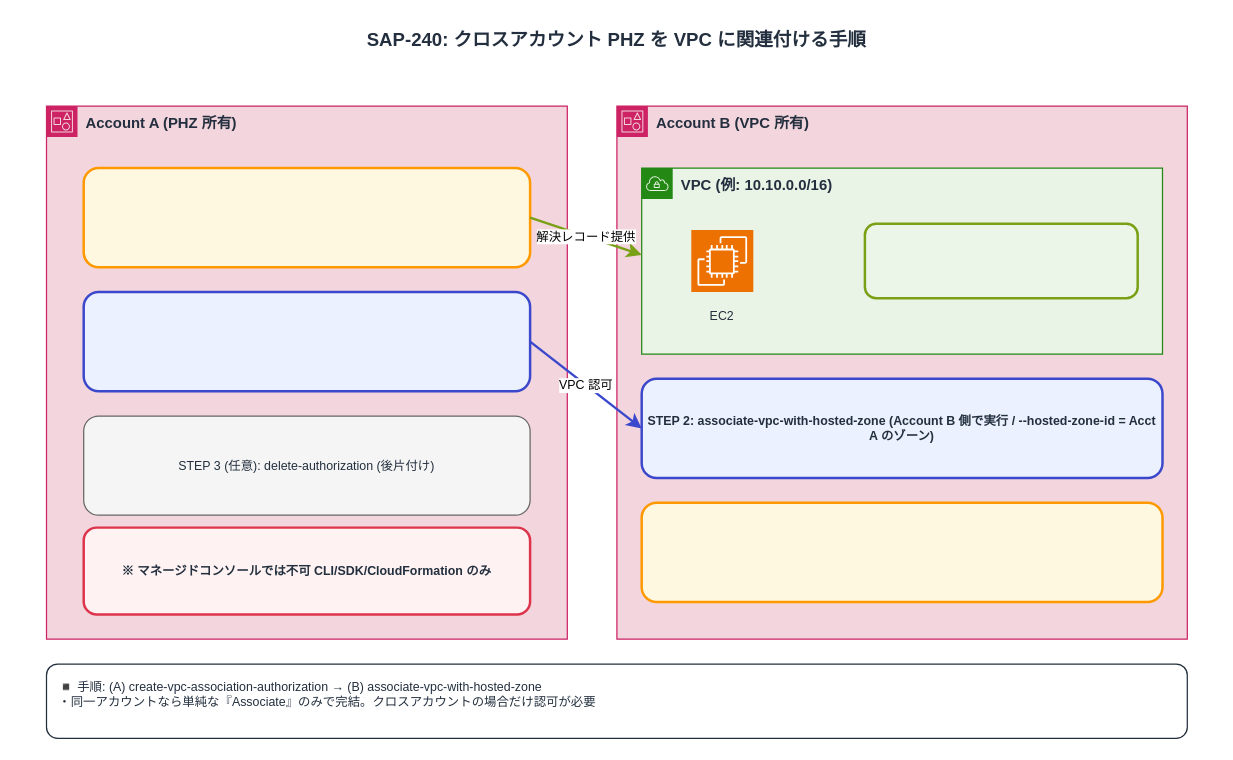
The diagram is 1233 pixels wide and 760 high, and some of its shapes have lost their labels. The centre of each missing label's shape, as x and y in pixels:
"EC2 は PHZ FQDN を解決可" goes at [1000,260].
"Route 53 Private Hosted Zone example.internal" goes at [306,217].
"STEP 1: create-vpc-association-authorization → Account B の VPC ID を認可" goes at [306,341].
"結果: Account B VPC の EC2 が Account A の PHZ レコードを解決できる" goes at [901,552].
